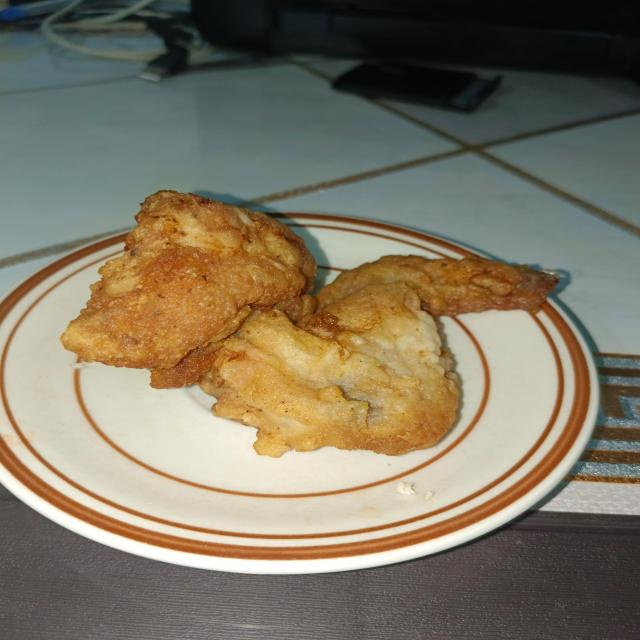Chicken -Fried Chicken-: (70, 182, 572, 482)
